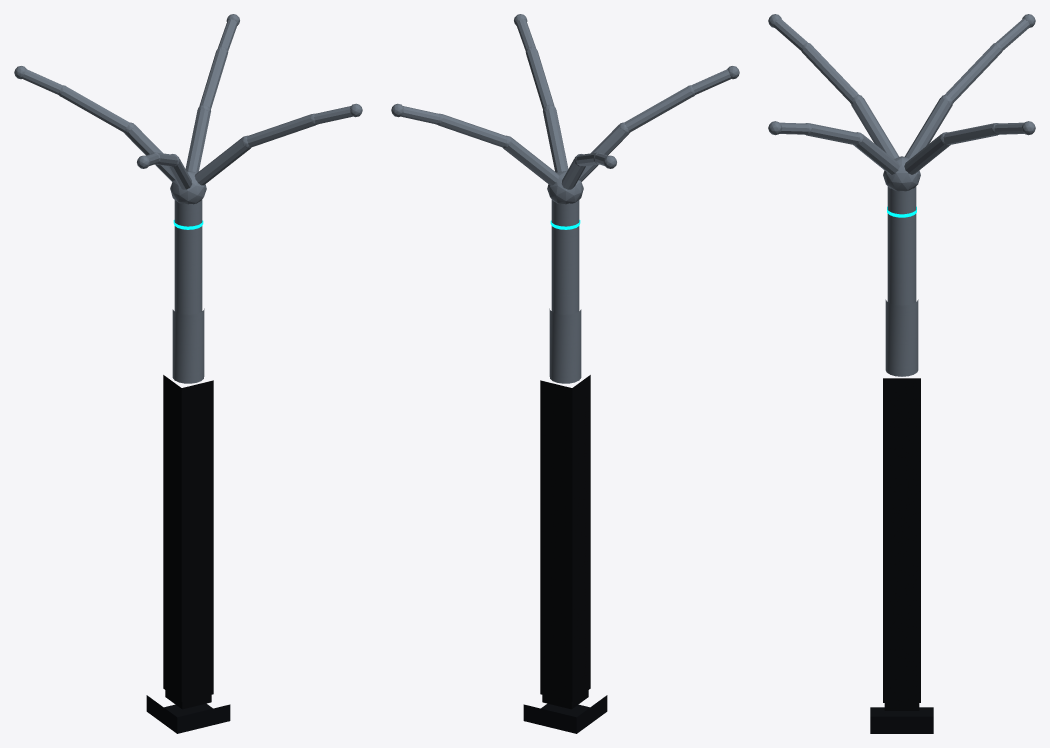
3 renders of one model, left to right at view 1: azimuth 30°, elevation 25°; view 2: azimuth 150°, elevation 25°; view 3: azimuth 270°, elevation 25°, orthographic. The views are drawn at different scales.
Visible parts, largest first — view 1: Trunk_Clad, Tree_Steel, Pedestal_Concrete; view 2: Trunk_Clad, Tree_Steel, Pedestal_Concrete; view 3: Tree_Steel, Trunk_Clad, Pedestal_Concrete.
Boxes of the visible parts, bbox=[...] form: Trunk_Clad: bbox=[163, 375, 213, 701]; Tree_Steel: bbox=[14, 14, 362, 383]; Pedestal_Concrete: bbox=[146, 695, 230, 733]; Trunk_Clad: bbox=[540, 375, 590, 701]; Tree_Steel: bbox=[391, 14, 739, 383]; Pedestal_Concrete: bbox=[523, 695, 607, 733]; Tree_Steel: bbox=[768, 14, 1035, 376]; Trunk_Clad: bbox=[883, 378, 920, 702]; Pedestal_Concrete: bbox=[870, 707, 933, 733].
Bounding box in the file's own units: 8.45 × 22.73 × 8.45.
4 materials, 3 textured.
